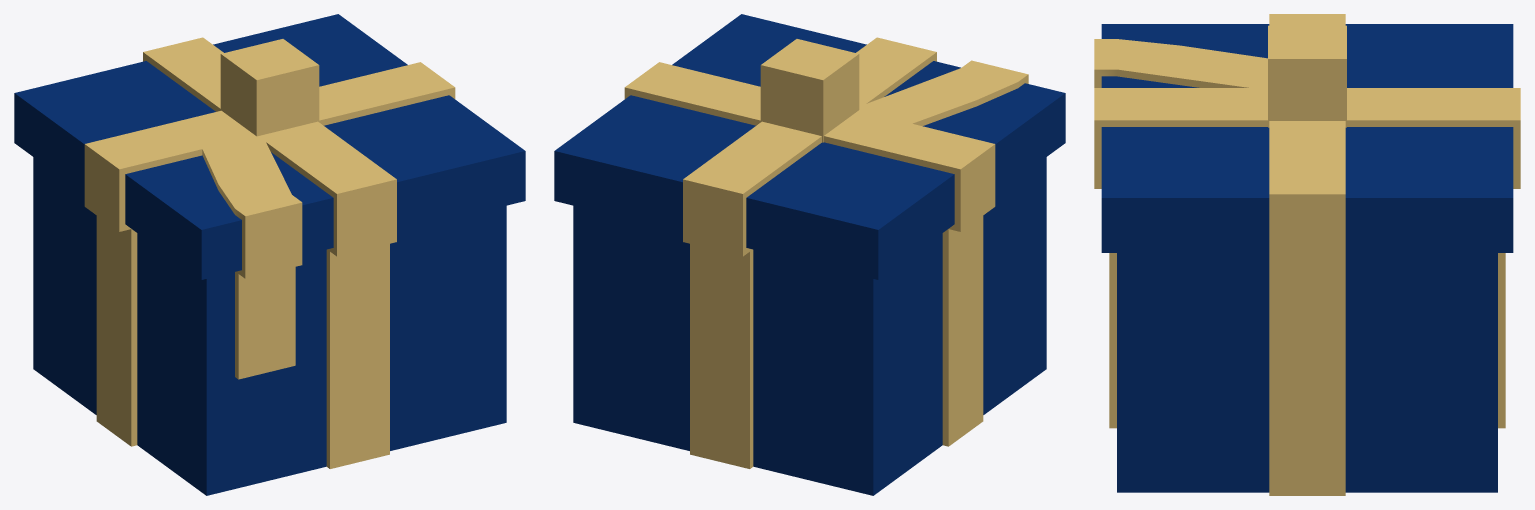
File: 011 Gift_Box.fbx
3 renders of one model, left to right at view 1: azimuth 30°, elevation 25°; view 2: azimuth 150°, elevation 25°; view 3: azimuth 270°, elevation 25°, orthographic. The views are drawn at different scales.
Visible parts, largest first — view 1: Lowpoly_Christmas_Pack_011:pCube3; view 2: Lowpoly_Christmas_Pack_011:pCube3; view 3: Lowpoly_Christmas_Pack_011:pCube3.
Boxes of the visible parts, x1,y1,x2,y2 form: Lowpoly_Christmas_Pack_011:pCube3: (14, 14, 525, 495); Lowpoly_Christmas_Pack_011:pCube3: (554, 14, 1065, 495); Lowpoly_Christmas_Pack_011:pCube3: (1094, 14, 1520, 495).
Size of the model in its own units: 1.12 by 1.07 by 1.12.
